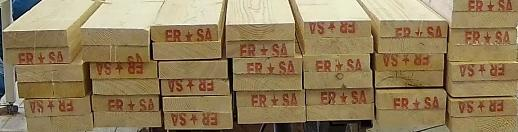Wood-Plank: (376, 90, 446, 110), (158, 59, 227, 79), (375, 52, 445, 71), (226, 40, 296, 58), (233, 56, 303, 74), (304, 71, 373, 89), (164, 112, 233, 130), (238, 106, 306, 124), (91, 94, 159, 112), (90, 61, 157, 79), (226, 23, 295, 40), (5, 46, 70, 64), (453, 62, 518, 80), (82, 45, 150, 62), (375, 71, 443, 88), (307, 104, 375, 121), (80, 27, 148, 44), (450, 97, 518, 114), (449, 27, 516, 44), (162, 95, 232, 111), (306, 89, 375, 105), (161, 80, 230, 96), (92, 78, 160, 94), (17, 64, 81, 81), (381, 19, 445, 36), (304, 56, 371, 72), (304, 37, 371, 53), (303, 20, 369, 36), (233, 76, 303, 91), (377, 109, 445, 124), (16, 81, 84, 96), (151, 26, 218, 41), (153, 42, 220, 57), (451, 117, 518, 132), (451, 81, 517, 96), (3, 31, 68, 46), (25, 99, 90, 114), (449, 44, 514, 59), (237, 92, 306, 106), (376, 38, 445, 52), (453, 10, 517, 25), (93, 113, 161, 127), (26, 116, 92, 130), (454, 0, 518, 10)
